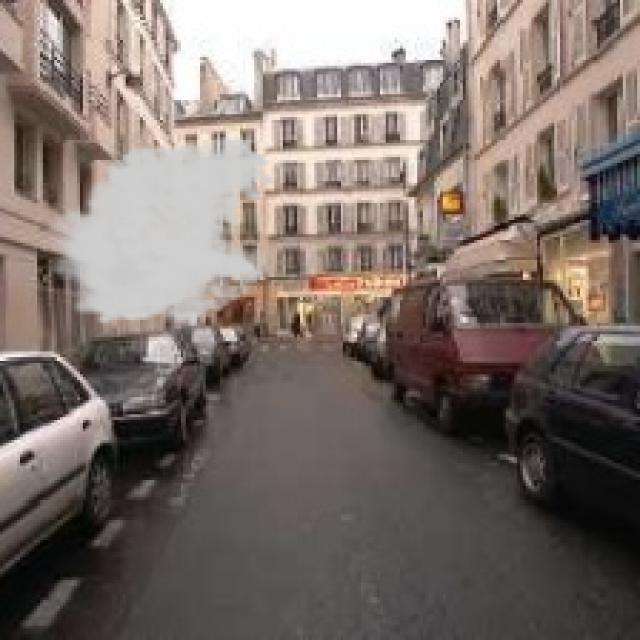Smoke: (40, 134, 277, 337)
